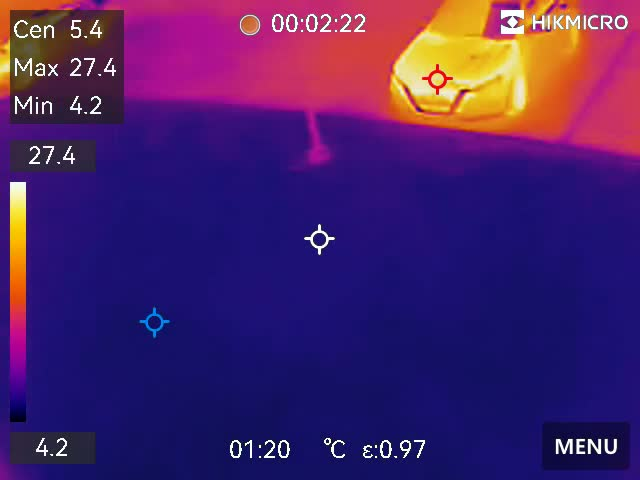smallCar: (366, 1, 607, 123)
